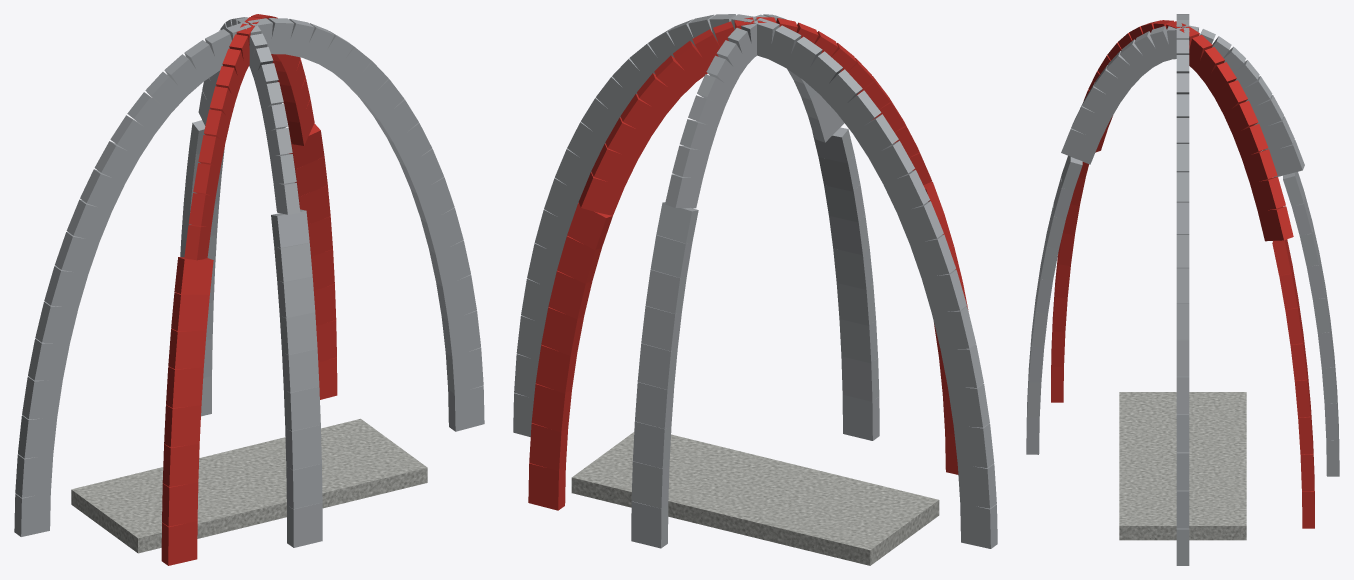
The picture shows the model from 3 angles, left to right: view 1: azimuth 30°, elevation 25°; view 2: azimuth 150°, elevation 25°; view 3: azimuth 270°, elevation 25°; orthographic projection. The views are drawn at different scales.
Visible parts, largest first — view 1: baseOffset=0;depth=2;height=3;material=steel_galv;power=;ser (×3); view 2: baseOffset=0;depth=2;height=3;material=steel_galv;power=;ser (×3); view 3: baseOffset=0;depth=2;height=3;material=steel_galv;power=;ser (×3).
Part boxes in pixels (x1,y1,x2,y2): baseOffset=0;depth=2;height=3;material=steel_galv;power=;ser (×3): [14, 14, 484, 565]; baseOffset=0;depth=2;height=3;material=steel_galv;power=;ser (×3): [513, 14, 997, 565]; baseOffset=0;depth=2;height=3;material=steel_galv;power=;ser (×3): [1026, 14, 1339, 565].
Size of the model in its own units: 3.2 by 1.97 by 3.1.
3 materials, 1 textured.
